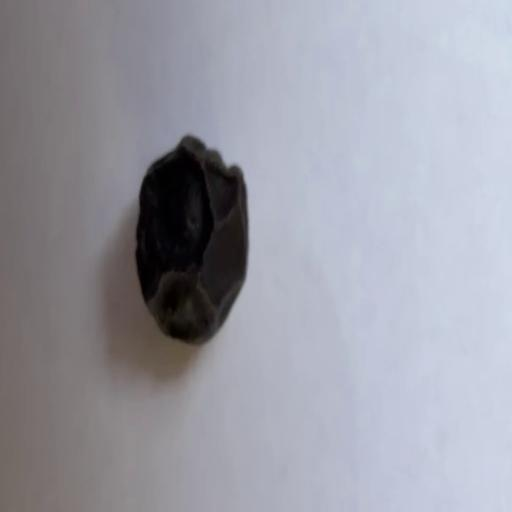Black_pepper: (122, 132, 259, 356)
